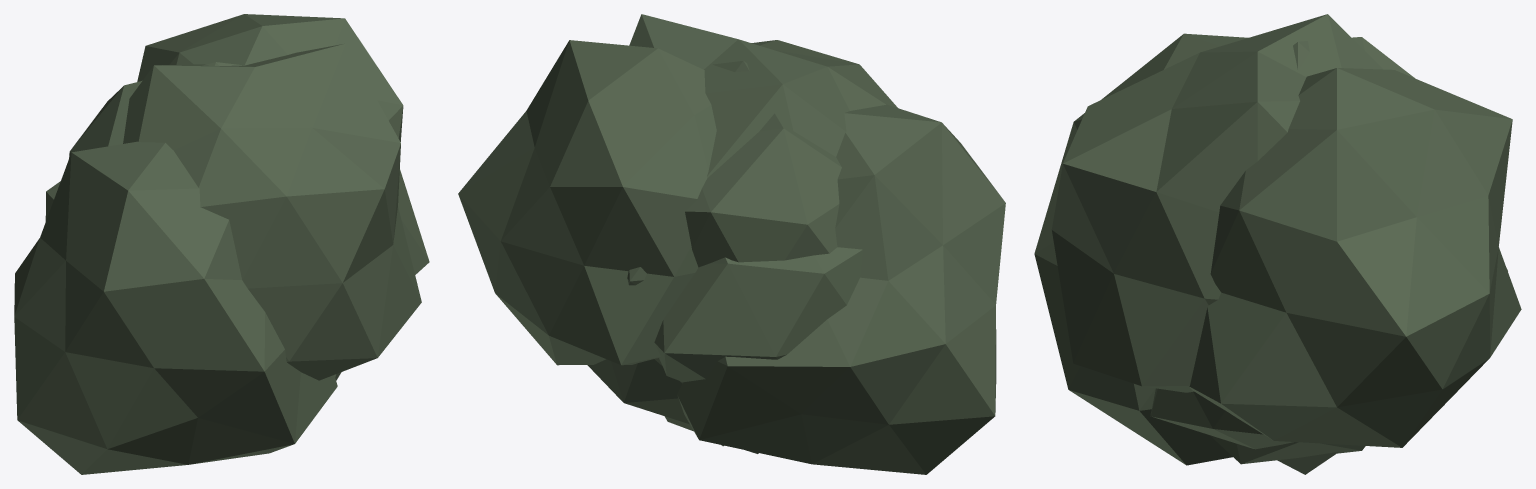
Rendered from arbusto.glb.
The picture shows the model from 3 angles, left to right: view 1: azimuth 30°, elevation 25°; view 2: azimuth 150°, elevation 25°; view 3: azimuth 270°, elevation 25°; orthographic projection. The views are drawn at different scales.
Parts seen in each view (by area): view 1: p; view 2: p; view 3: p.
Part boxes in pixels (x1,y1,x2,y2): p: [14, 14, 429, 474]; p: [458, 14, 1005, 474]; p: [1034, 14, 1521, 474].
Size of the model in its own units: 0.8912 by 0.7479 by 0.7331.
